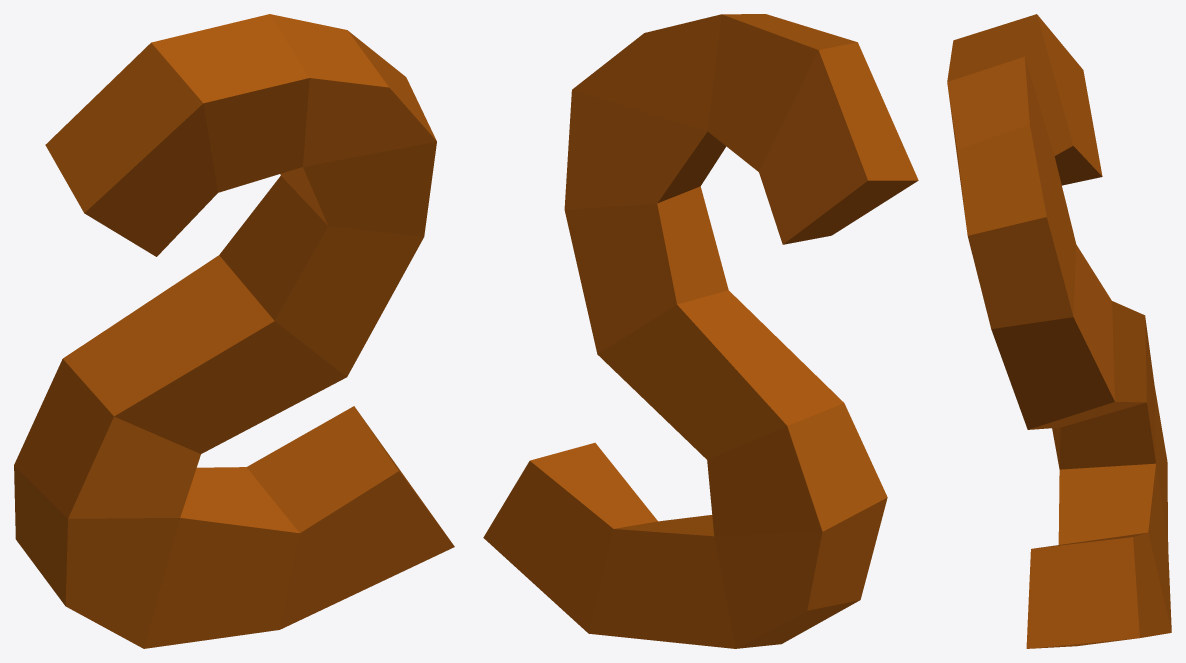
3 views of the same model, side by side, from view 1: azimuth 30°, elevation 25°; view 2: azimuth 150°, elevation 25°; view 3: azimuth 270°, elevation 25° (orthographic). The views are drawn at different scales.
Visible parts, largest first — view 1: mesh_S; view 2: mesh_S; view 3: mesh_S.
Part boxes in pixels (box(x1,y1,x2,y2)): mesh_S: box(14, 14, 454, 648); mesh_S: box(483, 14, 918, 648); mesh_S: box(947, 14, 1171, 648).
Bounding box in the file's own units: 54.41 × 86.06 × 30.61.
